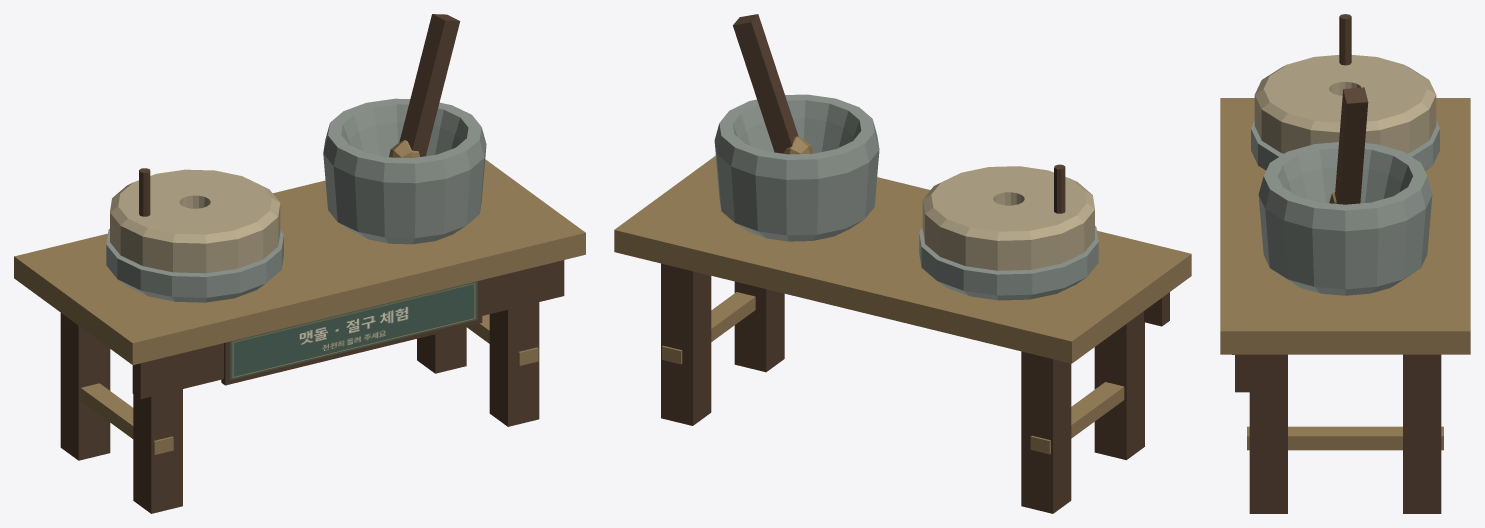
File: L05_Mill_Mortar_Exhibit.fbx
The picture shows the model from 3 angles, left to right: view 1: azimuth 30°, elevation 25°; view 2: azimuth 150°, elevation 25°; view 3: azimuth 270°, elevation 25°; orthographic projection. The views are drawn at different scales.
Parts seen in each view (by area): view 1: Structure.004, Mill_Rotor, Pestle; view 2: Structure.004, Mill_Rotor, Pestle; view 3: Structure.004, Mill_Rotor, Pestle.
Boxes of the visible parts, x1,y1,x2,y2 form: Structure.004: (14,98,585,513); Mill_Rotor: (110,168,280,273); Pestle: (389,14,460,157); Structure.004: (614,94,1191,513); Mill_Rotor: (922,164,1094,270); Pestle: (733,14,812,154); Structure.004: (1220,98,1470,513); Mill_Rotor: (1254,14,1436,153); Pestle: (1329,87,1368,204).
Bounding box in the file's own units: 216 × 172 × 98.
Materials: 1 (1 with a texture image).
